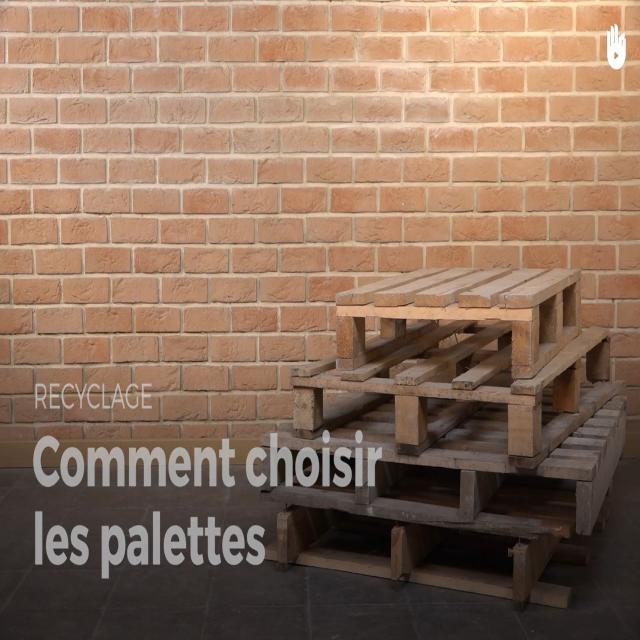Palette: (272, 273, 638, 626)
